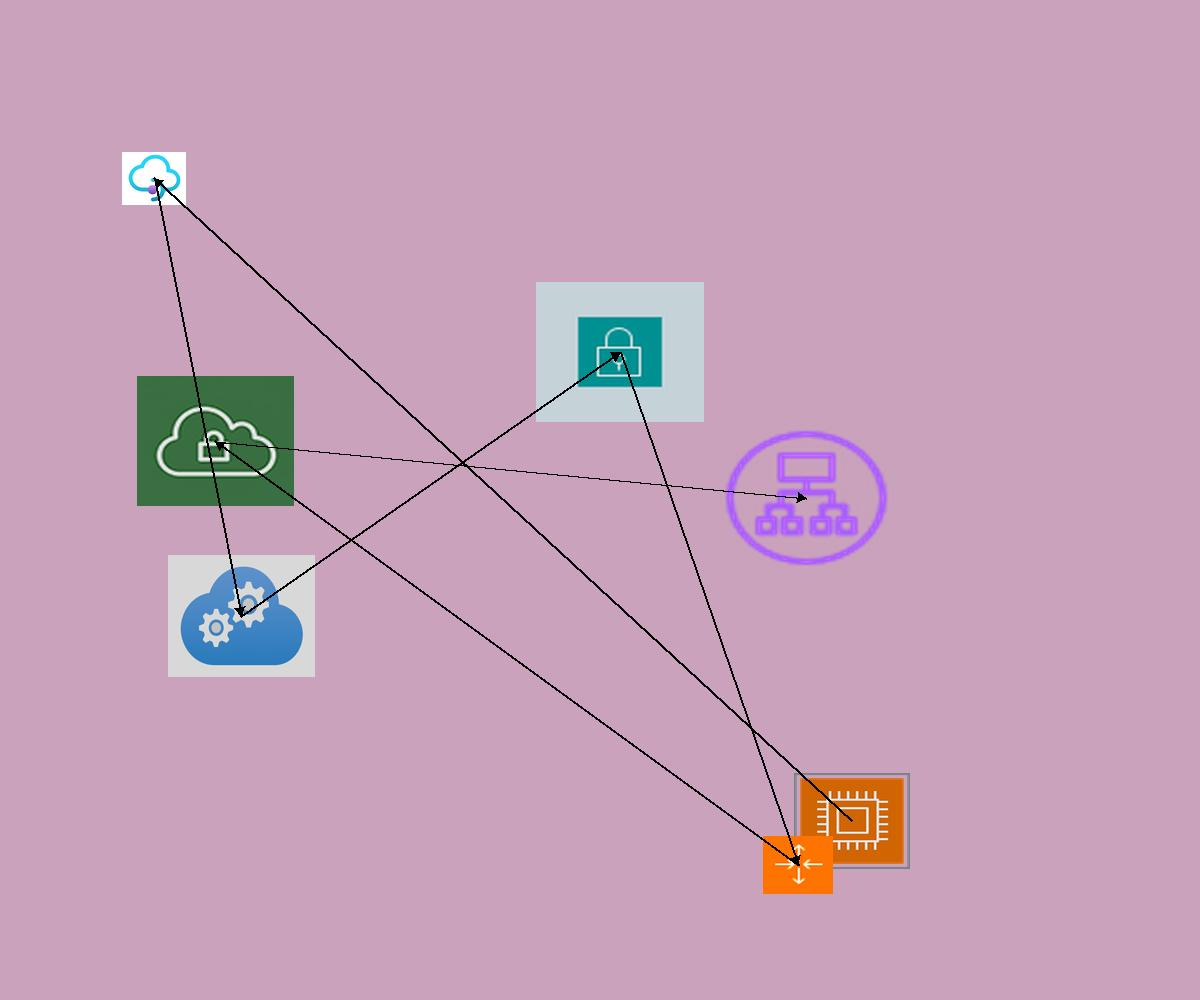AWS-Category_Compute: (794, 773, 910, 869)
AWS-Private-subnet: (536, 282, 704, 422)
AWS-Private_vpc: (137, 376, 294, 506)
AWS-Res_Elastic-Load-Balancing_Application-Load-Balancer: (719, 425, 894, 571)
AWS-Scaling-group: (763, 836, 833, 894)
Azure_api_gateway: (122, 152, 186, 205)
Azure_cloud_services: (168, 555, 315, 677)
